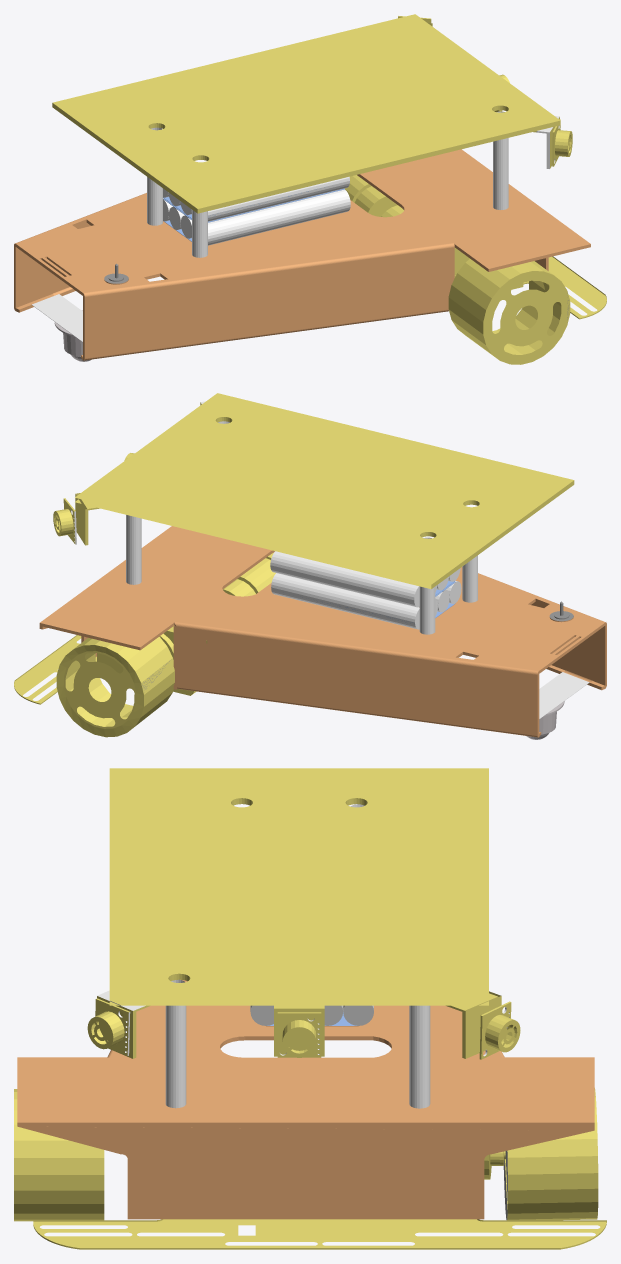
File: stingbot.dae
The picture shows the model from 3 angles, top to bottom: view 1: azimuth 30°, elevation 25°; view 2: azimuth 150°, elevation 25°; view 3: azimuth 270°, elevation 25°; orthographic projection. The views are drawn at different scales.
Visible parts, largest first — view 1: StingBot; view 2: StingBot; view 3: StingBot.
Boxes of the visible parts, x1=… form: StingBot: x1=14, y1=14, x2=606, y2=364; StingBot: x1=14, y1=393, x2=606, y2=739; StingBot: x1=14, y1=768, x2=606, y2=1249.
Size of the model in its own units: 0.3789 by 0.3174 by 0.1534.
